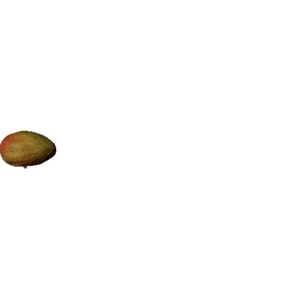mamão: (3, 123, 58, 171)
